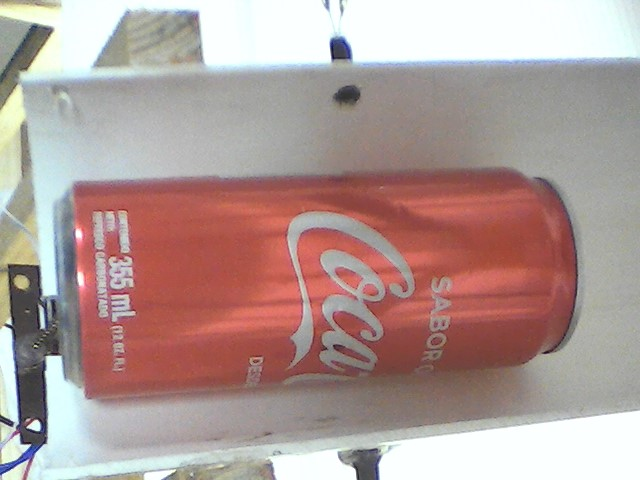lata: (51, 160, 590, 405)
